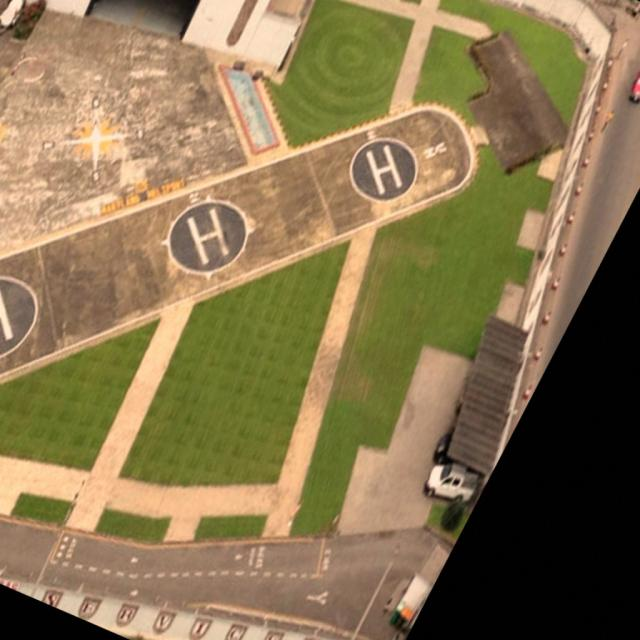helipad: (162, 194, 252, 280), (344, 136, 420, 204)
